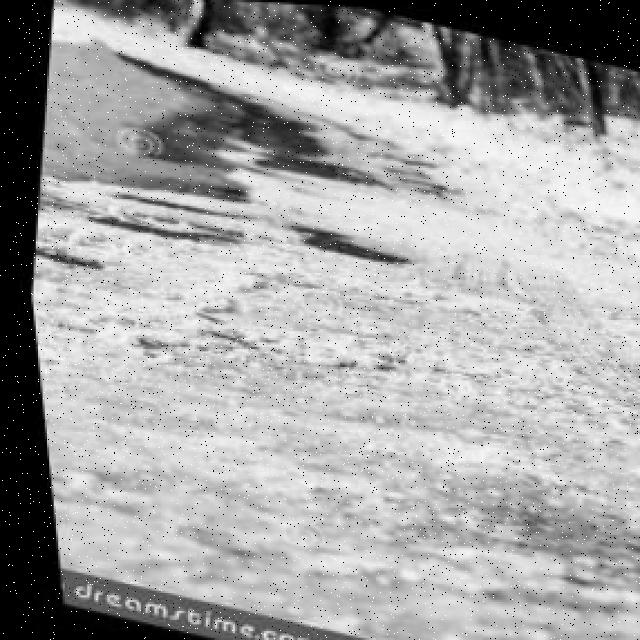ice-road: (35, 7, 640, 640)
